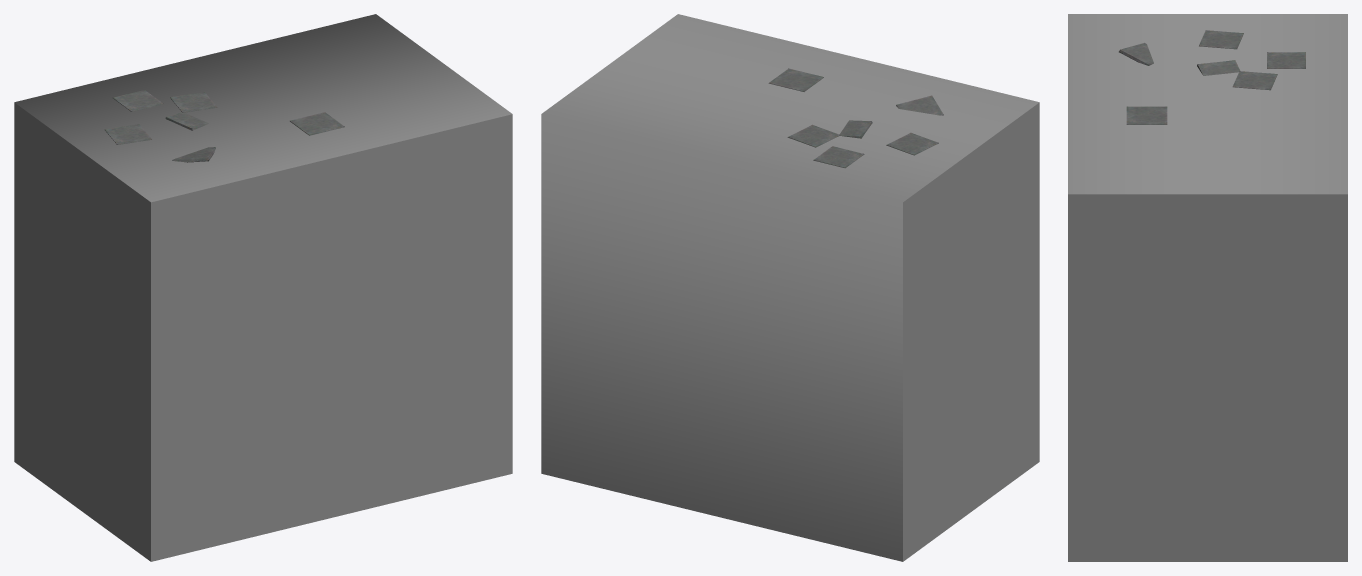
The picture shows the model from 3 angles, left to right: view 1: azimuth 30°, elevation 25°; view 2: azimuth 150°, elevation 25°; view 3: azimuth 270°, elevation 25°; orthographic projection. The views are drawn at different scales.
Parts seen in each view (by area): view 1: Scene_Object_Di_7_Xzm, Scene_Object_Di_7; view 2: Scene_Object_Di_7_Xzm, Scene_Object_Di_7; view 3: Scene_Object_Di_7_Xzm, Scene_Object_Di_7.
Part boxes in pixels (x1,y1,x2,y2): Scene_Object_Di_7_Xzm: (14, 14, 512, 561); Scene_Object_Di_7: (104, 90, 344, 162); Scene_Object_Di_7_Xzm: (541, 14, 1039, 561); Scene_Object_Di_7: (768, 68, 943, 168); Scene_Object_Di_7_Xzm: (1068, 14, 1347, 561); Scene_Object_Di_7: (1119, 30, 1305, 124).
Bounding box in the file's own units: 1724 × 1668 × 1129.
